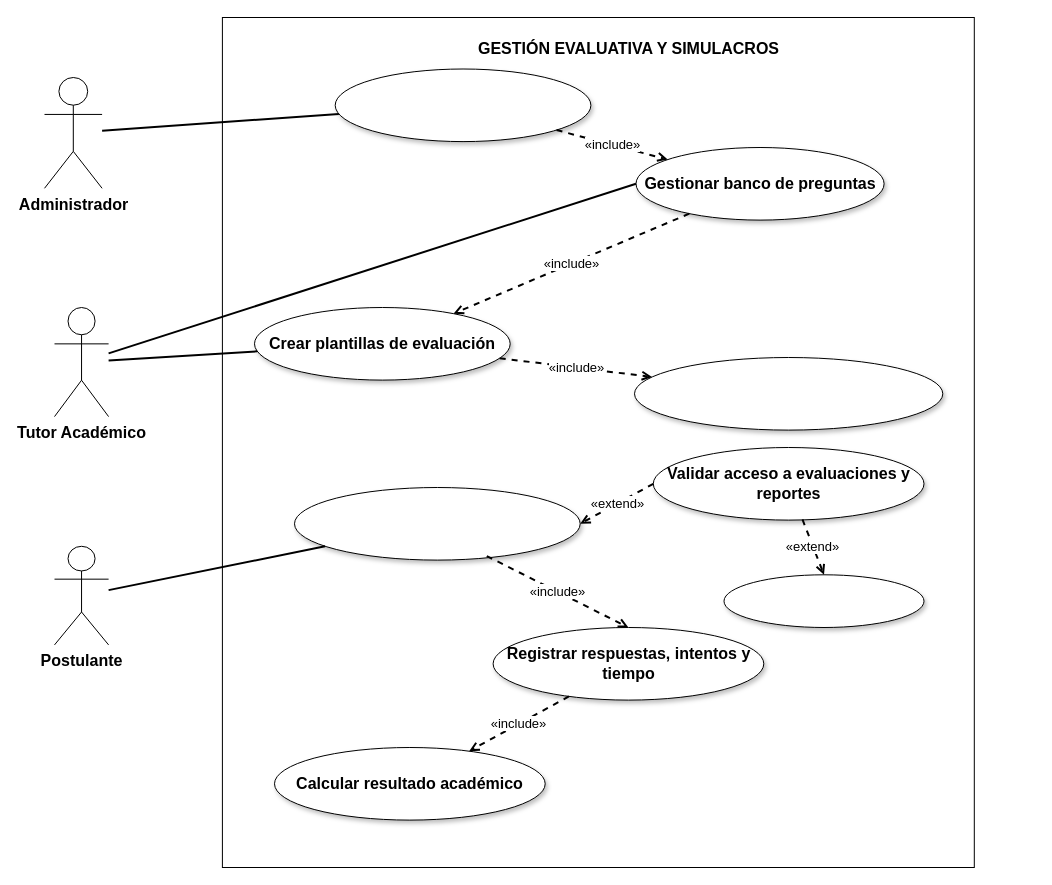
This 1052x885 diagram has some shape labels left out. The shapes that lost their labels are listed below. From the top down, each one's centre as x and y in pixels, then its label:
At [463,106]: "Configurar materias, áreas y temas".
At [789,394]: "Programar simulacros académicos".
At [438,524]: "Resolver evaluación o simulacro".
At [824,602]: "No Validado".
